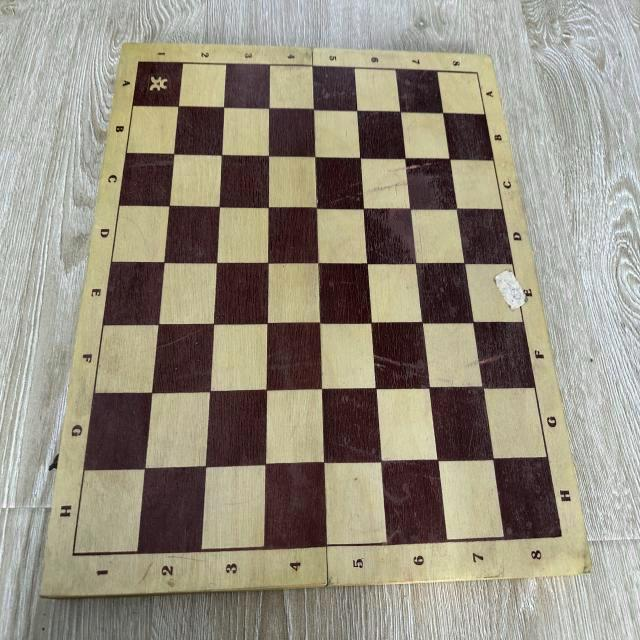chess-table-corners: (62, 540, 83, 568), (554, 526, 570, 546), (132, 54, 146, 70), (471, 66, 483, 80)
